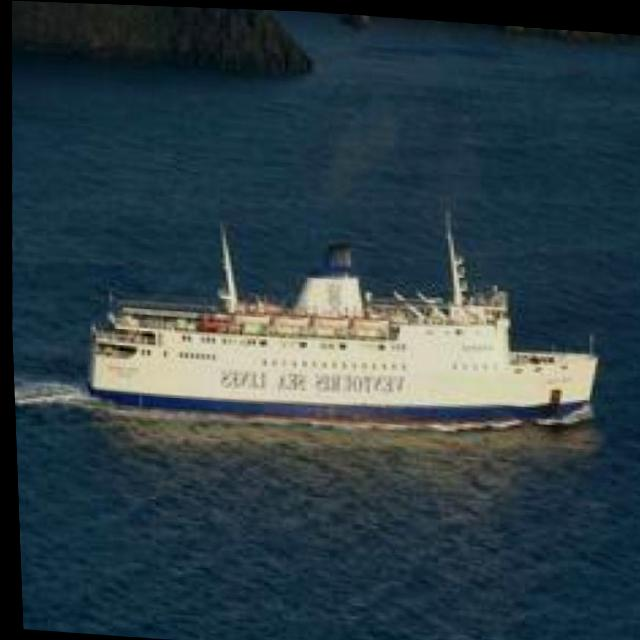ship2: (81, 202, 598, 427)
